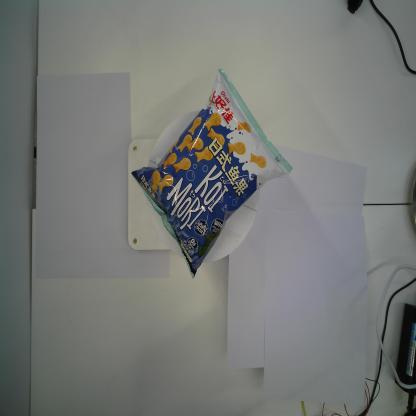Puffed Food: (132, 68, 294, 279)
